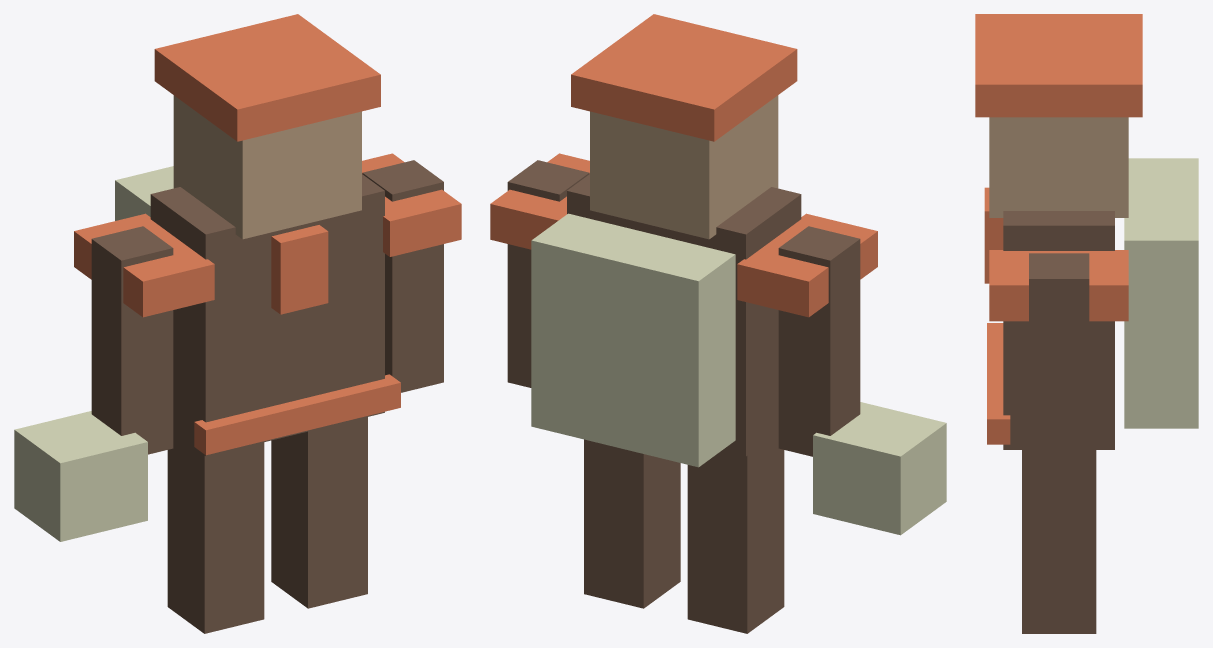
The model's file is 16_yara_voxmere_guide_under_humming.glb.
3 views of the same model, side by side, from view 1: azimuth 30°, elevation 25°; view 2: azimuth 150°, elevation 25°; view 3: azimuth 270°, elevation 25° (orthographic).
Parts seen in each view (by area): view 1: Yara Voxmere, Guide under Humming; view 2: Yara Voxmere, Guide under Humming; view 3: Yara Voxmere, Guide under Humming.
Part boxes in pixels (left/top/right/bottom): Yara Voxmere, Guide under Humming: left=14, top=14, right=461, bottom=633; Yara Voxmere, Guide under Humming: left=490, top=14, right=946, bottom=633; Yara Voxmere, Guide under Humming: left=975, top=14, right=1198, bottom=633.
Size of the model in its own units: 1.08 by 1.4 by 0.5205.
